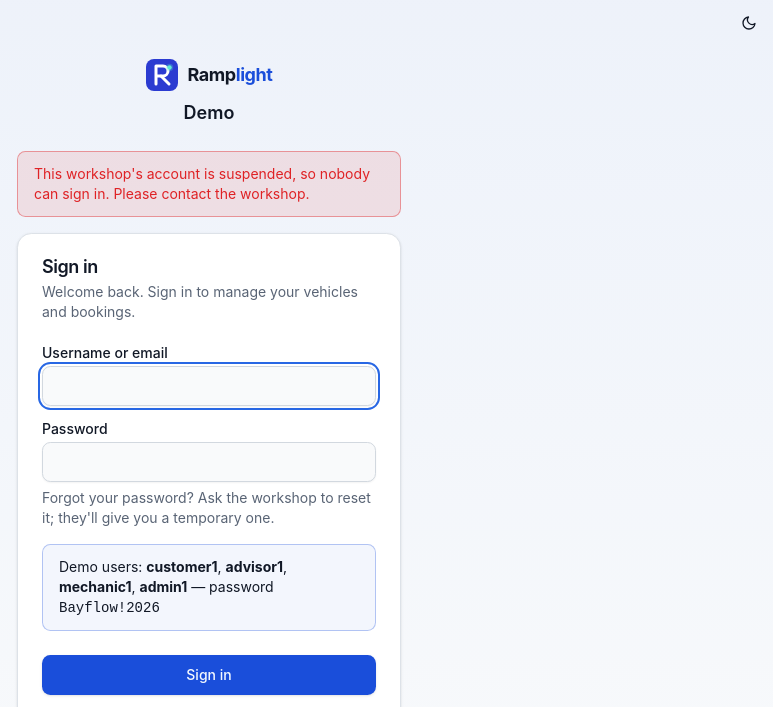
a workshop's sign-in page › explains a suspended workshop
The image size is (773, 707).
Expected: the text "account is suspended, so nobody can sign in" is shown, [34,165,370,202]
In the field labelled "Username or email": (209, 386) [42,366,376,406], type "admin1"
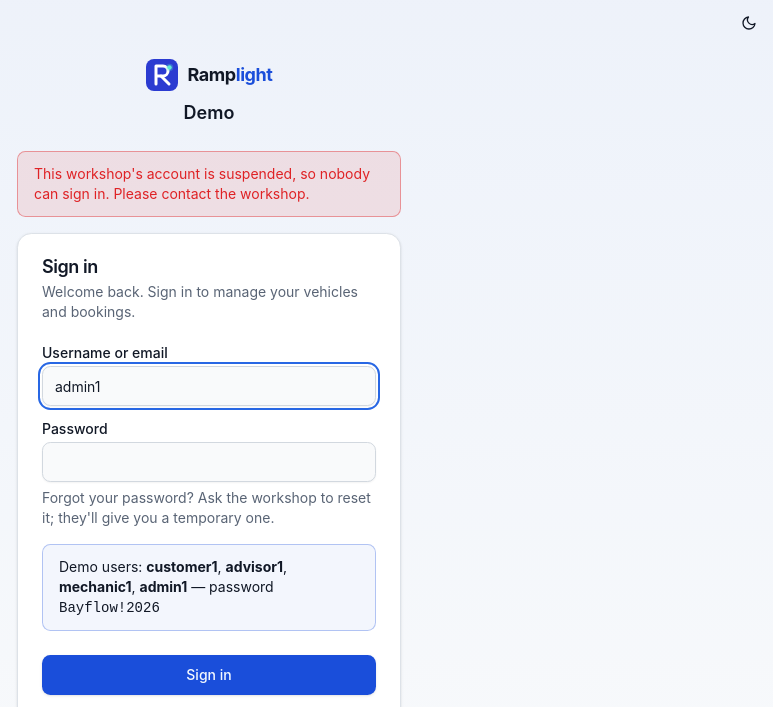
In the password field labelled "Password": (209, 462) [42,442,376,482], type "Bayflow!2026"
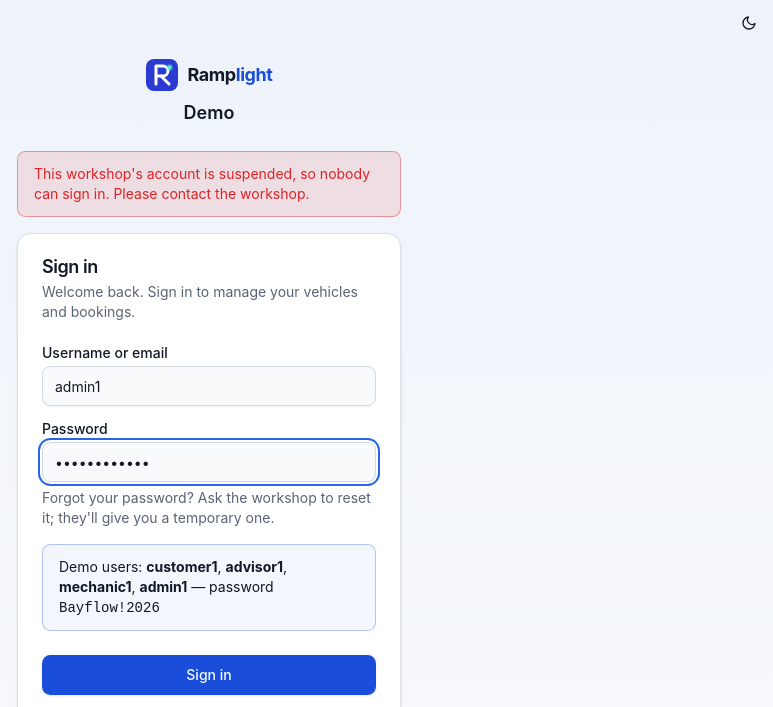
Click the button "Sign in": (209, 675) [42,655,376,695]
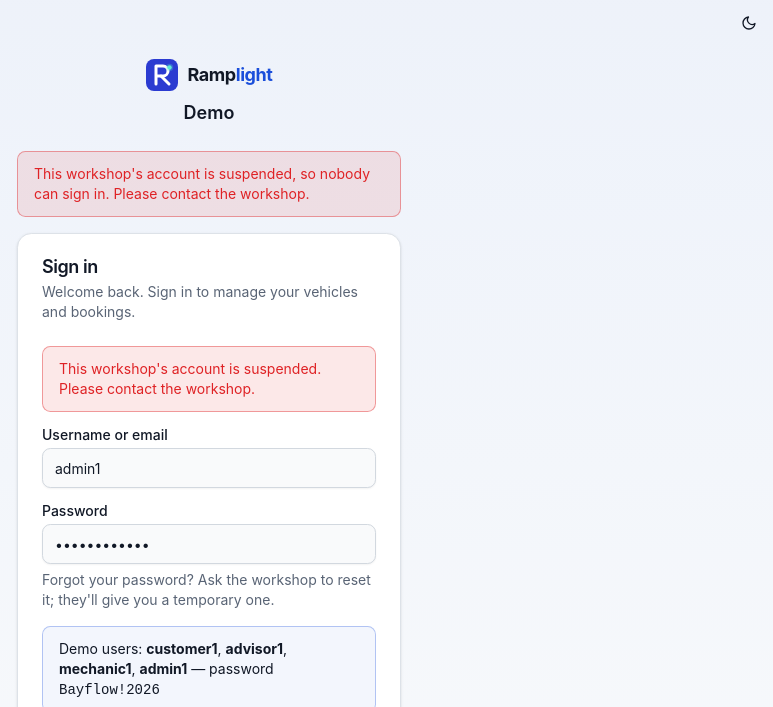
Result: the text "This workshop's account is suspended. Please contact the workshop." is shown at [42,346,376,412]
